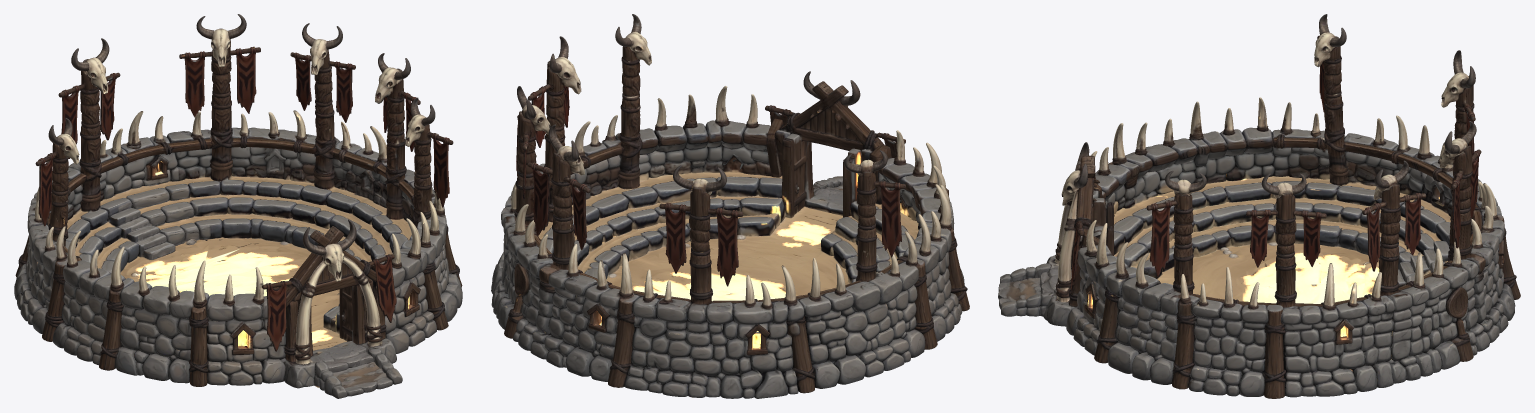
File: TrollFightPit_300k.glb
The picture shows the model from 3 angles, left to right: view 1: azimuth 30°, elevation 25°; view 2: azimuth 150°, elevation 25°; view 3: azimuth 270°, elevation 25°; orthographic projection. The views are drawn at different scales.
Visible parts, largest first — view 1: Mesh_0; view 2: Mesh_0; view 3: Mesh_0.
Part boxes in pixels (x1=…): Mesh_0: x1=14, y1=14, x2=462, y2=398; Mesh_0: x1=491, y1=14, x2=969, y2=398; Mesh_0: x1=998, y1=14, x2=1520, y2=398.
Bounding box in the file's own units: 1.72 × 0.8477 × 1.9.
Materials: 1 (1 with a texture image).
